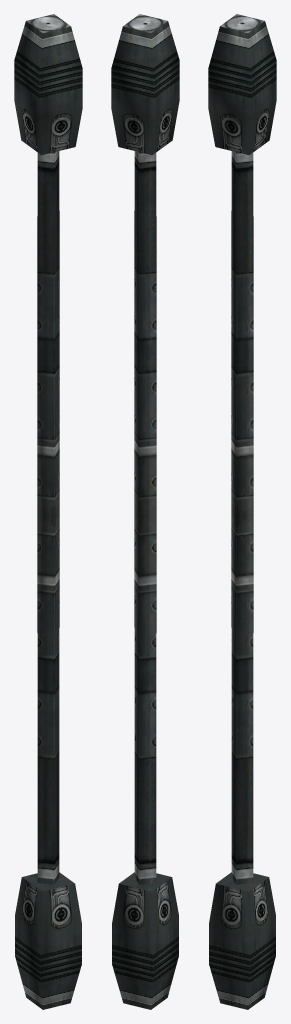
Rendered from wp_mle_lance_s01_l1.fbx.
3 renders of one model, left to right at view 1: azimuth 30°, elevation 25°; view 2: azimuth 150°, elevation 25°; view 3: azimuth 330°, elevation 25°, orthographic.
Visible parts, largest first — view 1: mesh_node; view 2: mesh_node; view 3: mesh_node.
Boxes of the visible parts, left/top/right/bottom form: mesh_node: left=14, top=14, right=82, bottom=1009; mesh_node: left=111, top=14, right=179, bottom=1009; mesh_node: left=208, top=14, right=276, bottom=1009.
Size of the model in its own units: 0.0684 by 1.49 by 0.0706.
1 material, 1 textured.
